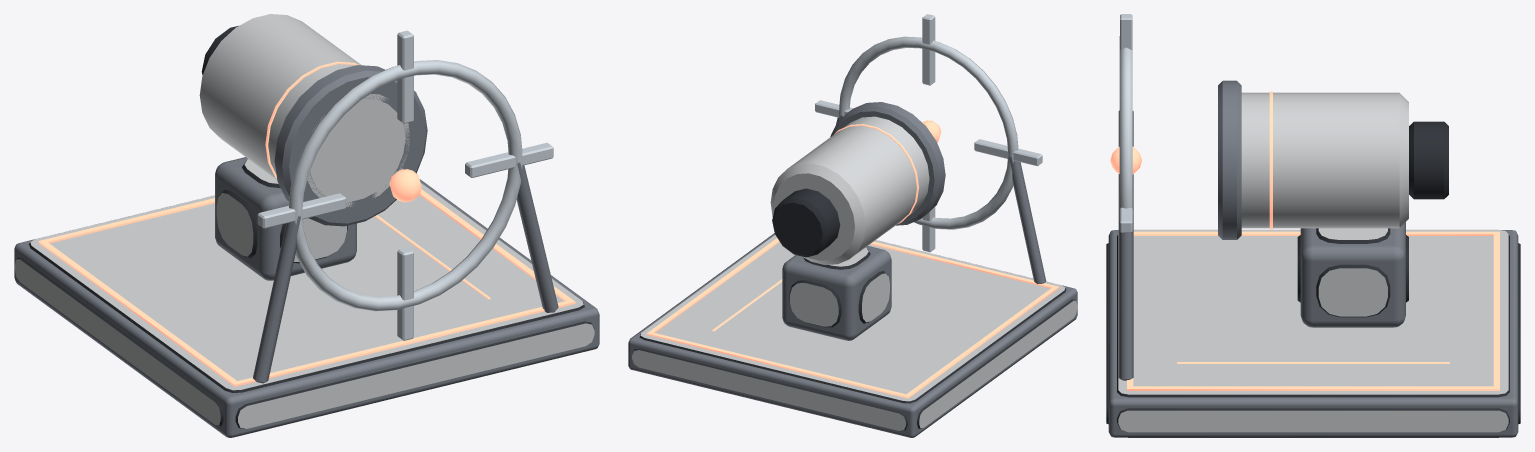
File: R4X_WeakPointScanner.fbx
3 renders of one model, left to right at view 1: azimuth 30°, elevation 25°; view 2: azimuth 150°, elevation 25°; view 3: azimuth 270°, elevation 25°, orthographic. The views are drawn at different scales.
Parts seen in each view (by area): view 1: R4X_WeakPointScanner_Body; view 2: R4X_WeakPointScanner_Body; view 3: R4X_WeakPointScanner_Body.
Boxes of the visible parts, box(x1,y1,x2,y2) form: R4X_WeakPointScanner_Body: box(14, 14, 599, 437); R4X_WeakPointScanner_Body: box(628, 14, 1077, 437); R4X_WeakPointScanner_Body: box(1106, 14, 1520, 437).
Size of the model in its own units: 0.52 by 0.47 by 0.52.
